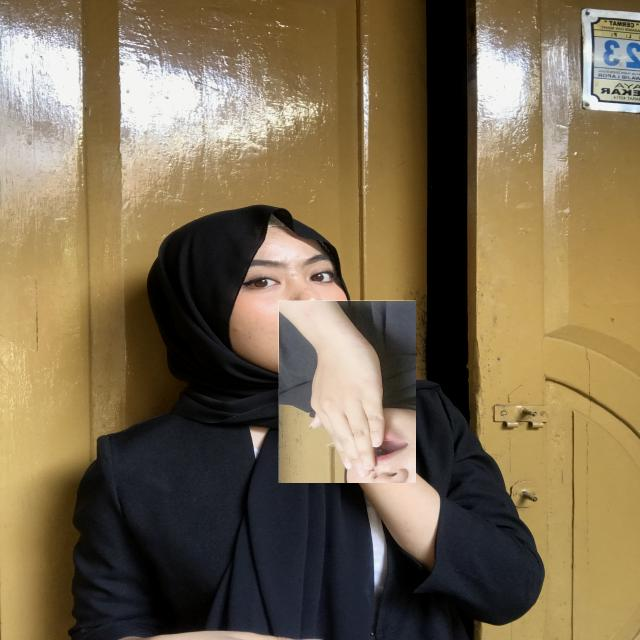ngantuk: (278, 300, 416, 483)
